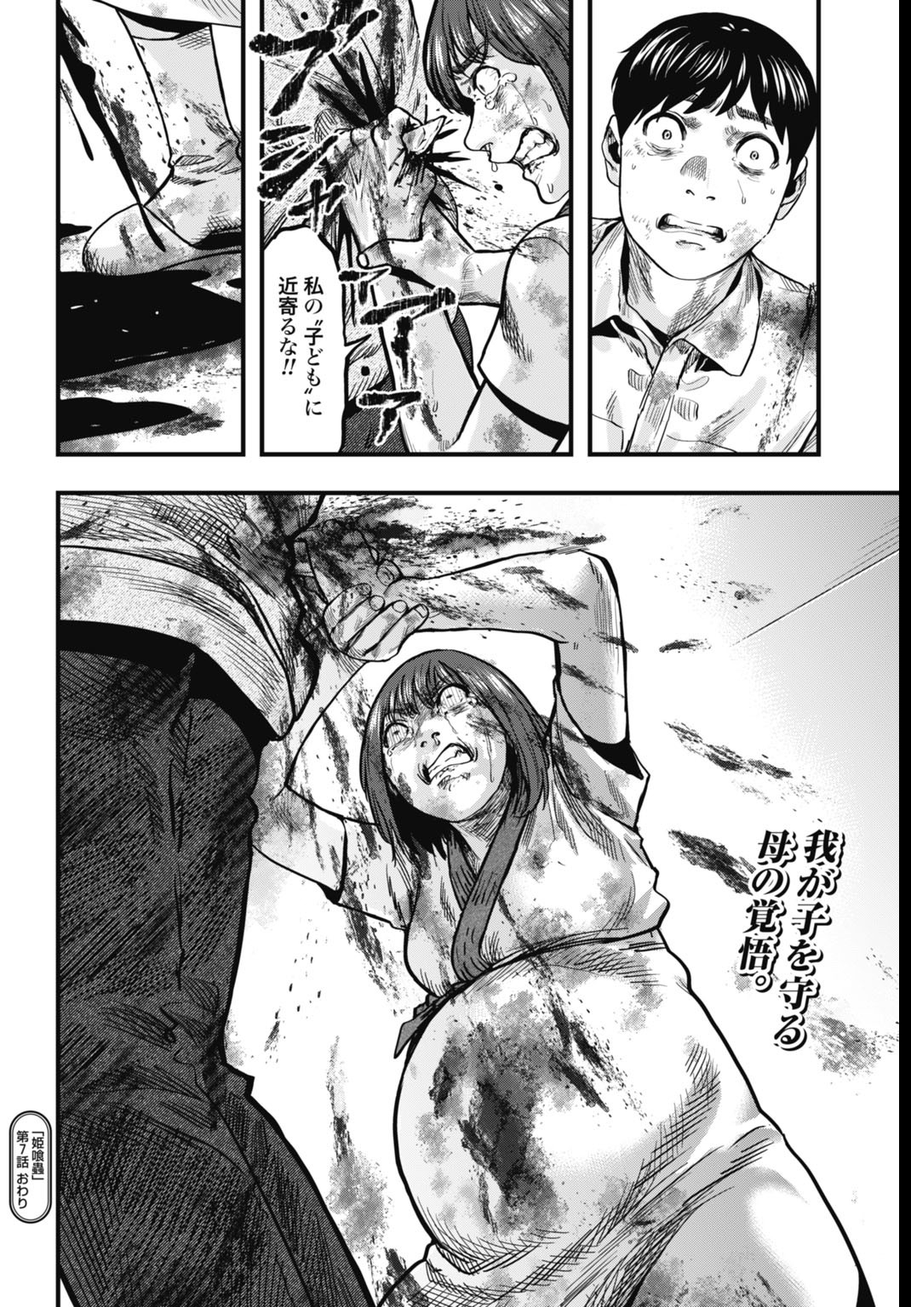bubbles: (259, 217, 376, 455)
